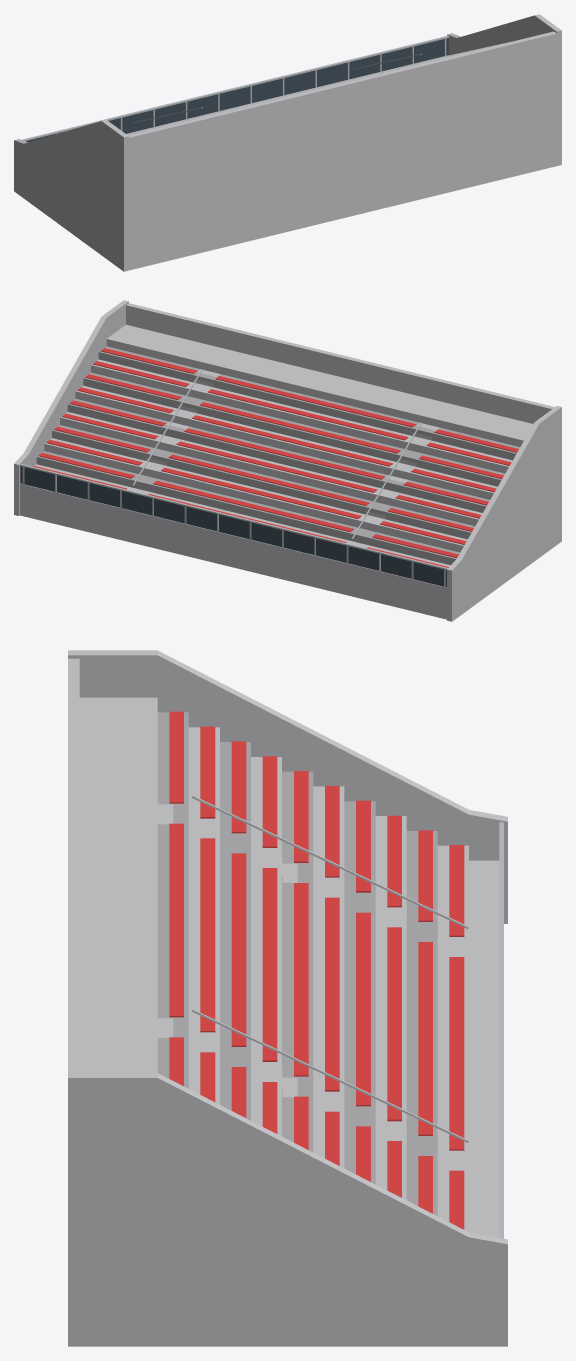
File: grandstand_open.glb
3 renders of one model, top to bottom at view 1: azimuth 30°, elevation 25°; view 2: azimuth 150°, elevation 25°; view 3: azimuth 270°, elevation 25°, orthographic. The views are drawn at different scales.
Parts seen in each view (by area): view 1: stand; view 2: stand, seats, stairs; view 3: stand, seats, stairs.
Part boxes in pixels (x1,y1,x2,y2): stand: (14, 14, 561, 271); stand: (14, 300, 561, 621); seats: (33, 348, 518, 567); stairs: (128, 365, 440, 547); stand: (68, 650, 507, 1346); seats: (169, 711, 464, 1229); stairs: (157, 796, 468, 1171).
Bounding box in the file's own units: 26 × 7.62 × 11.3.
